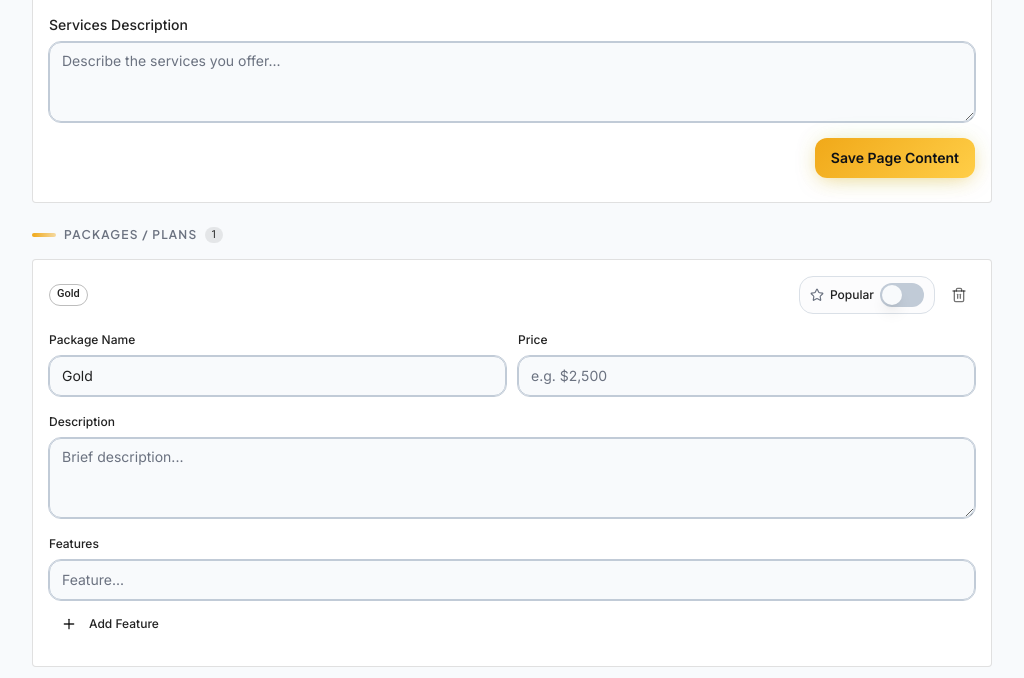
LandingPageEditor › removes a package from the list
(page scrolled)
Expected: the field showing "Gold" is shown, [49,356,506,396]
Click the button titled "Remove package".
click(959, 294)  # box [943,278,975,310]
(page scrolled)
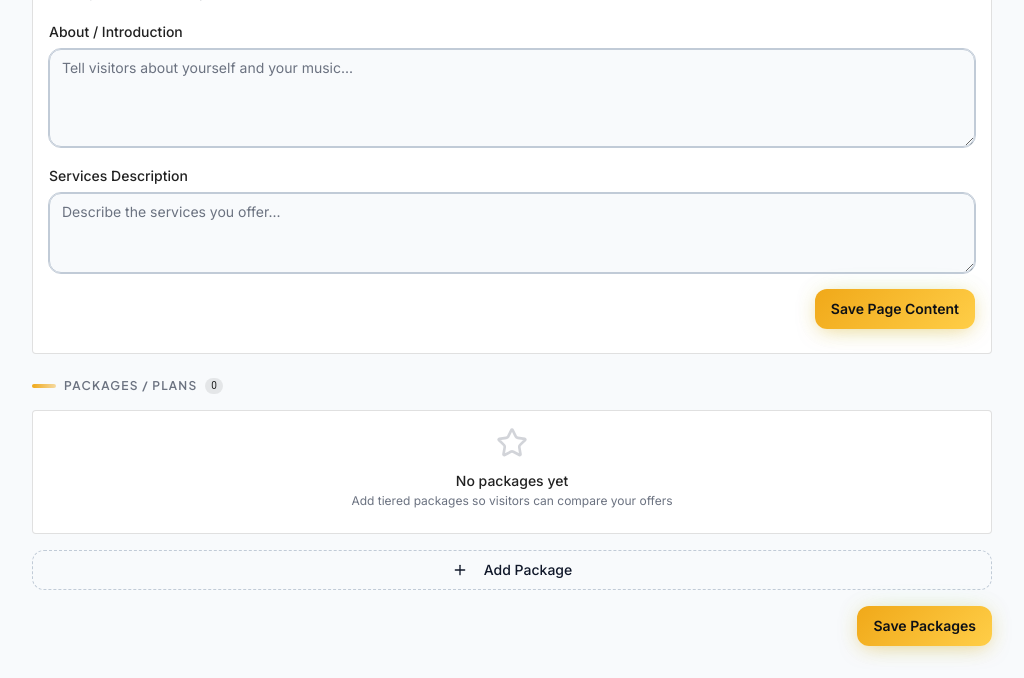
Expected: the text showing "Gold" is gone
Expected: the text "No packages yet" is shown, [456,470,568,490]
